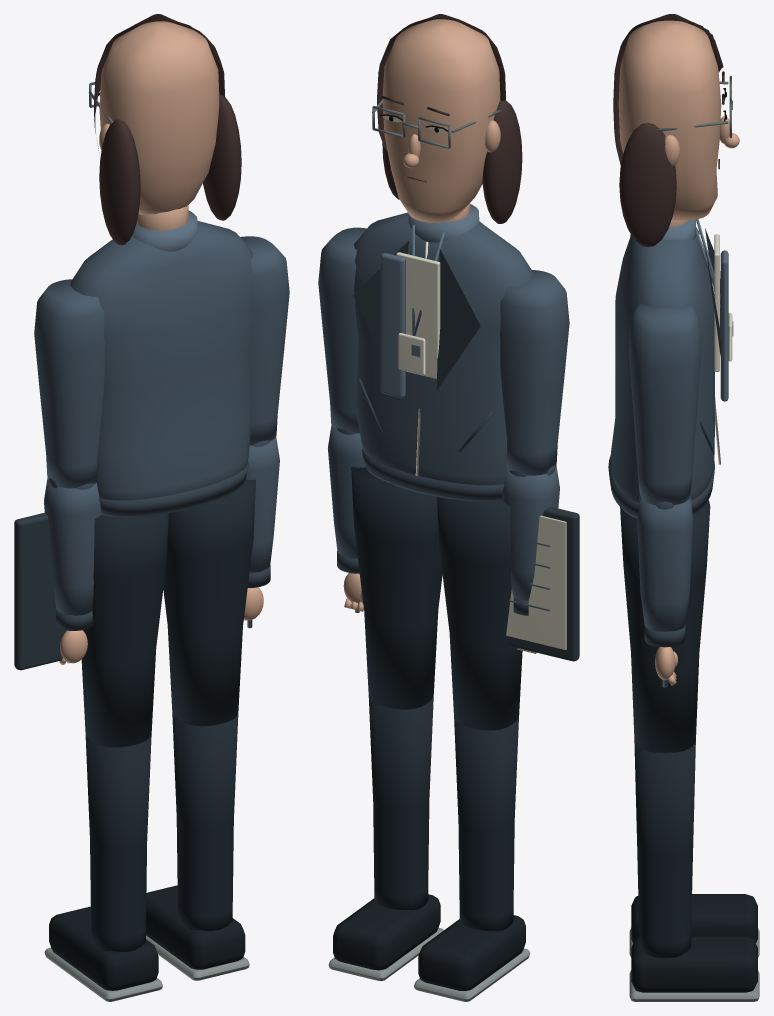
File: npc_career.glb
3 views of the same model, side by side, from view 1: azimuth 30°, elevation 25°; view 2: azimuth 150°, elevation 25°; view 3: azimuth 270°, elevation 25° (orthographic).
Visible parts, largest first — view 1: QuietClothTorso, TrouserThigh.001, AdultFace, TrouserThigh, Sleeve, Knee, Knee.001, BobSide, Sleeve.001, Clipboard, ElbowTransition, OrdinaryShoe (+8 smaller); view 2: QuietClothTorso, AdultFace, TrouserThigh.001, TrouserThigh, Sleeve, Knee, Knee.001, Sleeve.001, OrdinaryShoe, OrdinaryShoe.001, BobSide, IDPhoto (+11 smaller); view 3: AdultFace, QuietClothTorso, Sleeve.001, Knee.001, TrouserThigh.001, BobSide, ElbowTransition.001, OrdinaryShoe.001, OrdinaryShoe, IDPhoto, ShoeSole.001, BusinessShirt (+5 smaller).
Part boxes in pixels (left/top/right/bottom): QuietClothTorso: left=70, top=221, right=253, bottom=517; TrouserThigh.001: left=163, top=479, right=255, bottom=726; AdultFace: left=99, top=21, right=219, bottom=214; TrouserThigh: left=81, top=513, right=168, bottom=747; Sleeve: left=34, top=279, right=104, bottom=488; Knee: left=85, top=734, right=151, bottom=951; Knee.001: left=172, top=713, right=238, bottom=930; BobSide: left=94, top=14, right=241, bottom=245; Sleeve.001: left=240, top=236, right=289, bottom=445; Clipboard: left=14, top=512, right=66, bottom=670; ElbowTransition: left=44, top=478, right=101, bottom=615; OrdinaryShoe: left=49, top=906, right=158, bottom=990; QuietClothTorso: left=354, top=212, right=533, bottom=501; AdultFace: left=382, top=19, right=500, bottom=222; TrouserThigh.001: left=351, top=467, right=442, bottom=709; TrouserThigh: left=437, top=497, right=522, bottom=730; Sleeve: left=500, top=270, right=569, bottom=475; Knee: left=454, top=717, right=518, bottom=930; Knee.001: left=368, top=696, right=433, bottom=910; Sleeve.001: left=318, top=227, right=366, bottom=433; OrdinaryShoe: left=418, top=915, right=525, bottom=990; OrdinaryShoe.001: left=333, top=894, right=440, bottom=970; BobSide: left=377, top=14, right=522, bottom=223; IDPhoto: left=380, top=204, right=479, bottom=397; AdultFace: left=618, top=20, right=739, bottom=220; QuietClothTorso: left=610, top=227, right=714, bottom=518; Sleeve.001: left=629, top=303, right=701, bottom=504; Knee.001: left=634, top=740, right=695, bottom=958; TrouserThigh.001: left=620, top=500, right=710, bottom=752; BobSide: left=613, top=14, right=724, bottom=246; ElbowTransition.001: left=637, top=492, right=693, bottom=631; OrdinaryShoe.001: left=631, top=936, right=757, bottom=992; OrdinaryShoe: left=631, top=894, right=757, bottom=942; IDPhoto: left=662, top=219, right=733, bottom=401; ShoeSole.001: left=629, top=970, right=759, bottom=1001; BusinessShirt: left=699, top=234, right=732, bottom=464.
Bounding box in the file's own units: 0.442 × 1.54 × 0.221.
